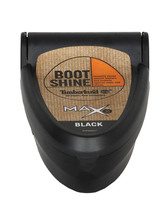other: (14, 35, 151, 198)
